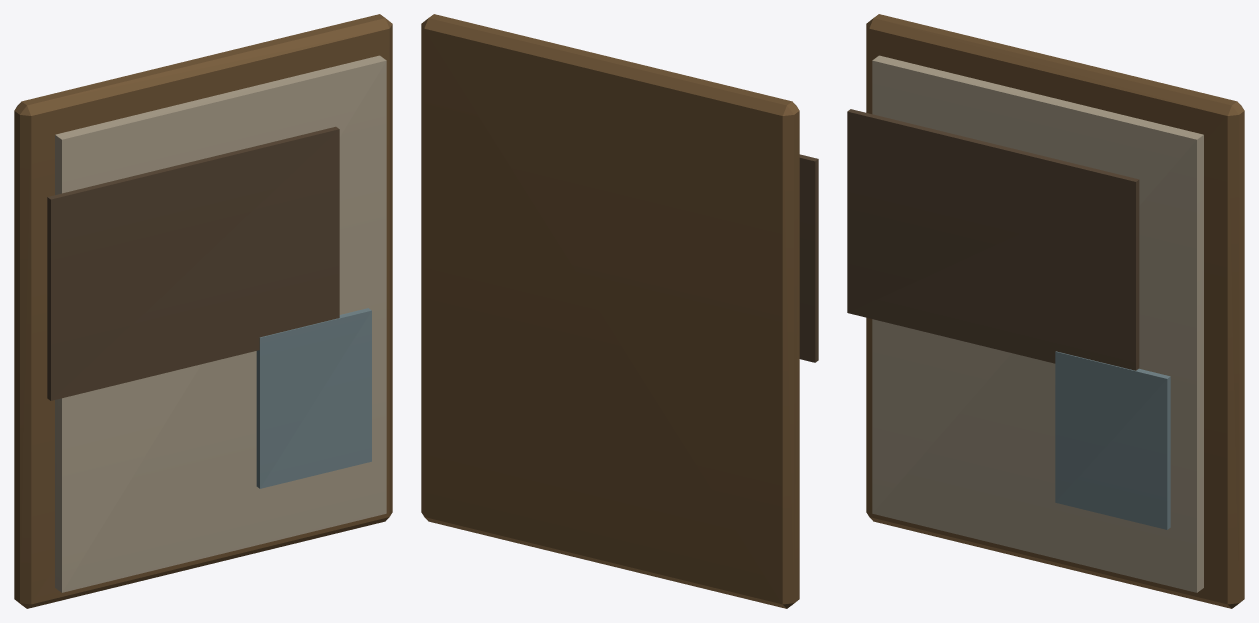
The model's file is wall_art.glb.
The picture shows the model from 3 angles, left to right: view 1: azimuth 30°, elevation 25°; view 2: azimuth 150°, elevation 25°; view 3: azimuth 330°, elevation 25°; orthographic projection.
Parts seen in each view (by area): view 1: wall_art; view 2: wall_art; view 3: wall_art.
Part boxes in pixels (x1,y1,x2,y2): wall_art: (14,14,392,608); wall_art: (421,14,818,608); wall_art: (847,14,1244,608).
Bounding box in the file's own units: 0.62 × 0.8 × 0.1015.
